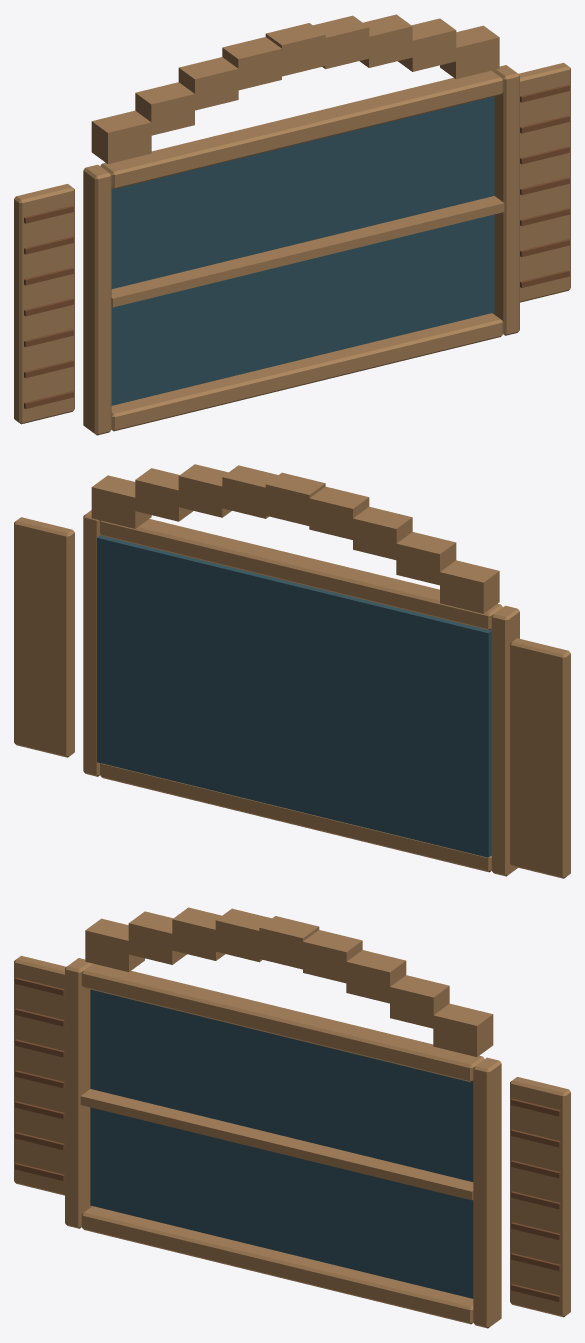
Rendered from window_13.glb.
3 views of the same model, one above another, from view 1: azimuth 30°, elevation 25°; view 2: azimuth 150°, elevation 25°; view 3: azimuth 330°, elevation 25° (orthographic).
Visible parts, largest first — view 1: window_13; view 2: window_13; view 3: window_13.
Part boxes in pixels (<box>): window_13: <box>14,14,570,435</box>; window_13: <box>14,464,570,878</box>; window_13: <box>14,907,570,1328</box>.
Bounding box in the file's own units: 2.96 × 1.75 × 0.195.
